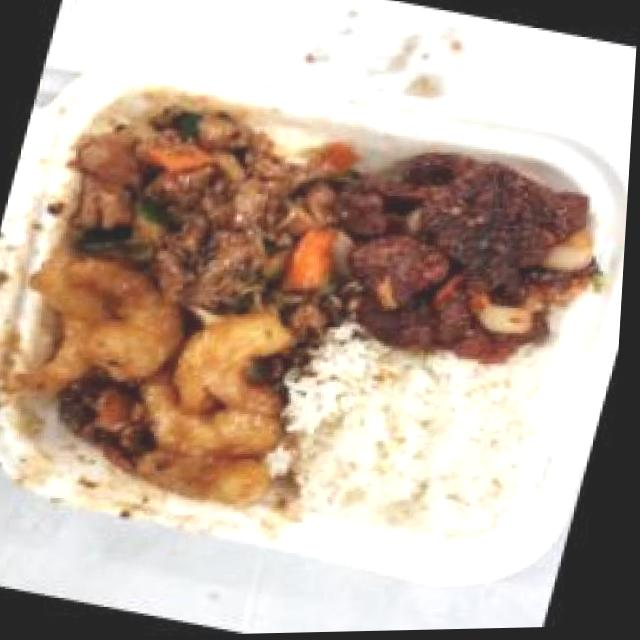Beijing Beef: (304, 122, 624, 382)
Honey Walnut Shrimp: (0, 234, 339, 530)
Kung Pao Chicken: (19, 75, 376, 349)
White Steamed Rice: (277, 330, 562, 560)
